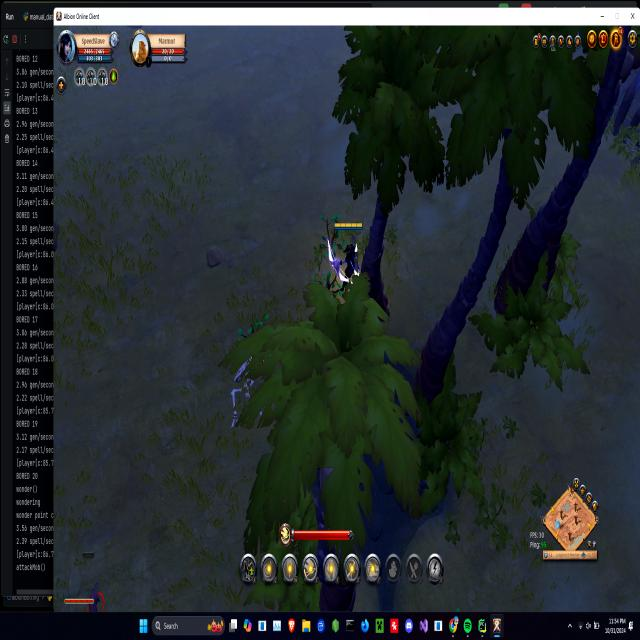ore: (63, 588, 105, 610)
red: (332, 219, 364, 281)
